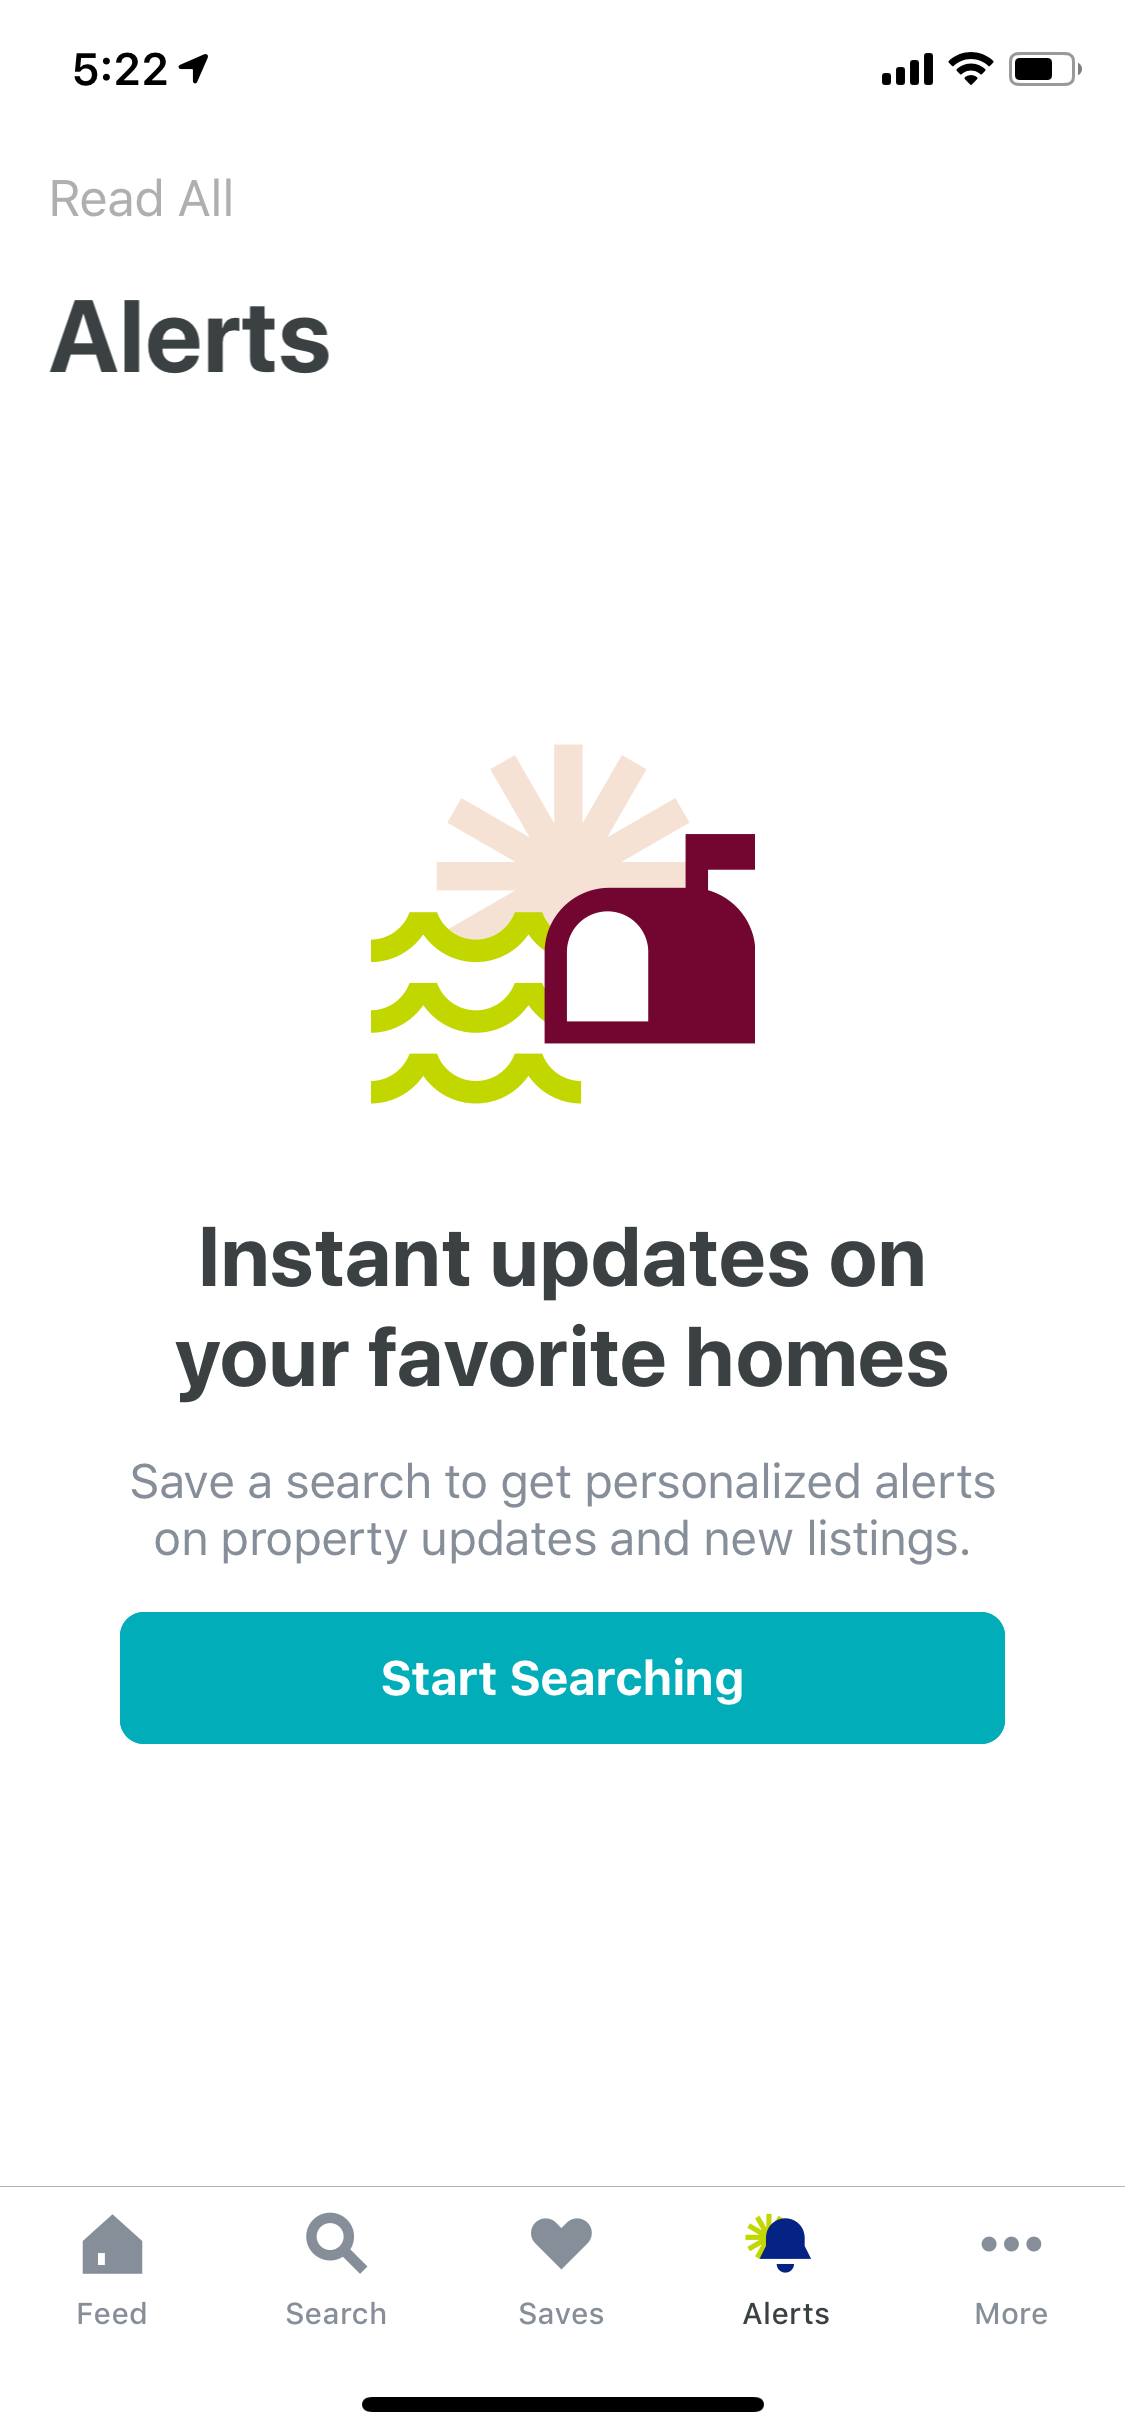Buttons: (103, 1602, 1019, 1759), (17, 120, 253, 252)
